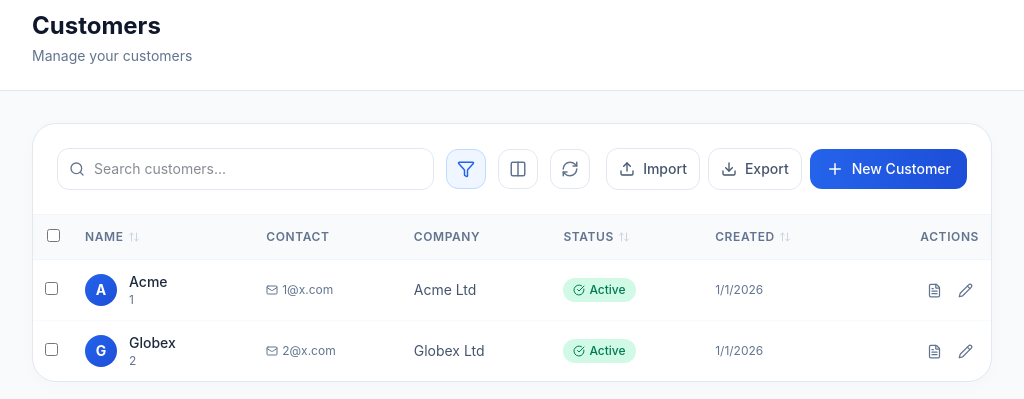
Test: CustomerListPage › a slow older response cannot overwrite the newer search result
This screenshot has width=1024, height=399.
Expected: the text "Acme" is shown, [129,272,168,292]
Click the button named "refresh list" at (570, 169), box [550,149,590,189]
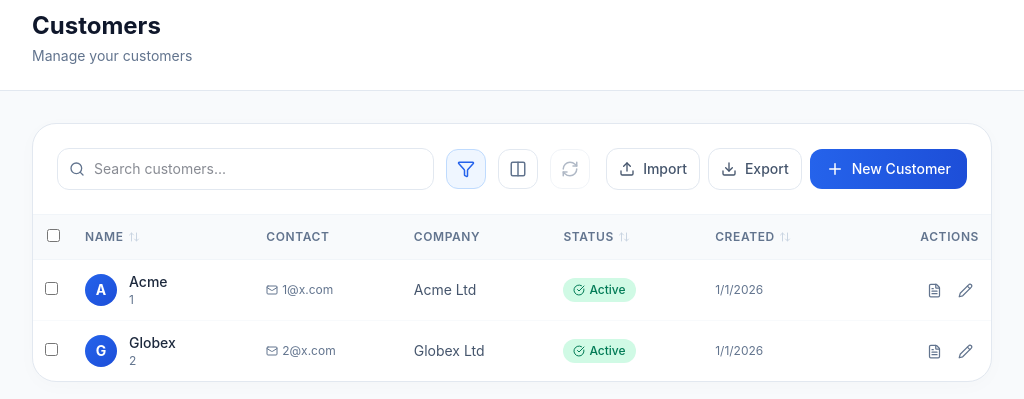
Type "glo" into the field with placeholder "Search customers..." at (246, 169), box [57,148,434,190]
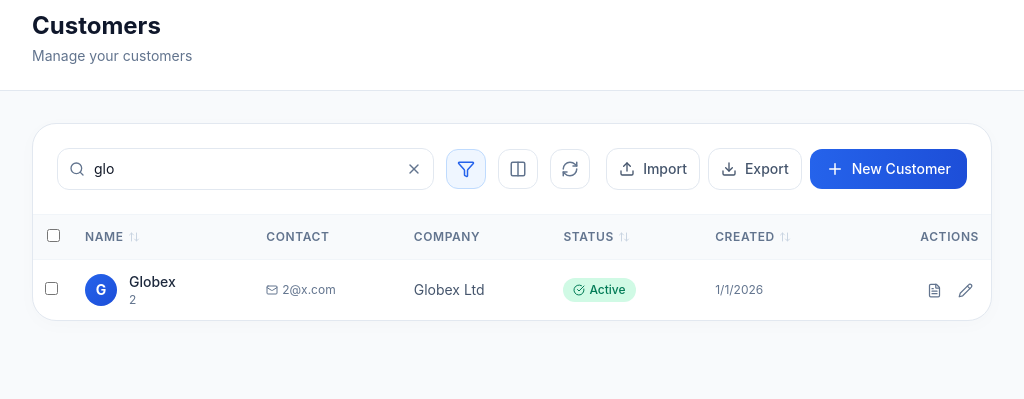
Expected: the text "Globex" is shown, [129,272,176,292]
Now the button "Acme" is gone
